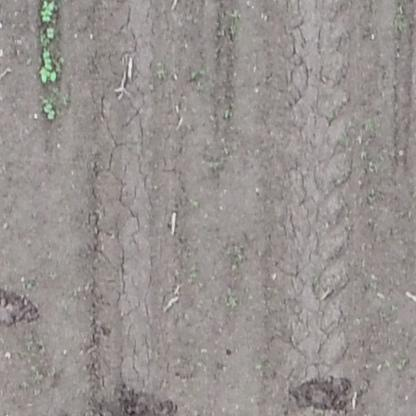vc: (38, 50, 58, 84), (40, 1, 58, 22), (41, 100, 58, 120), (45, 28, 59, 41)
